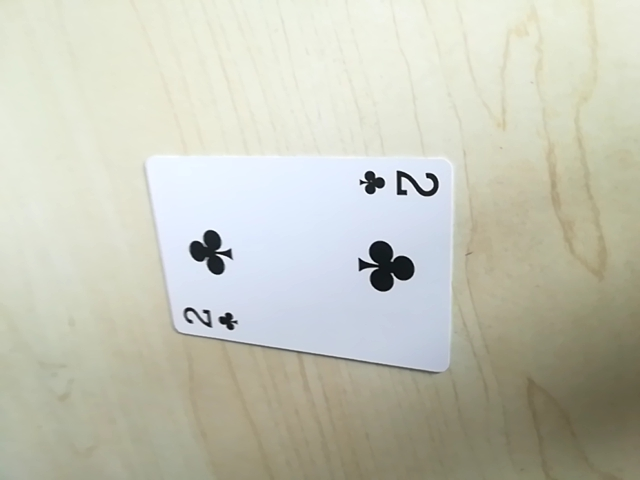mh 2: (358, 162, 445, 203), (176, 302, 245, 336)
